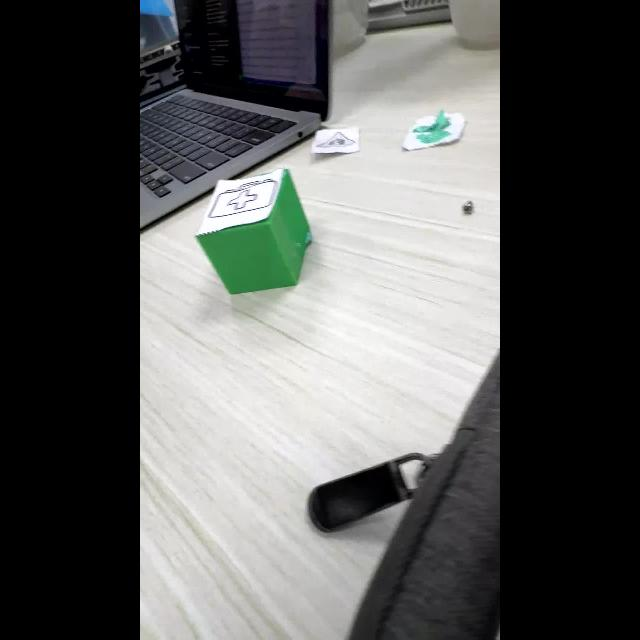Medkit: (208, 178, 278, 219)
